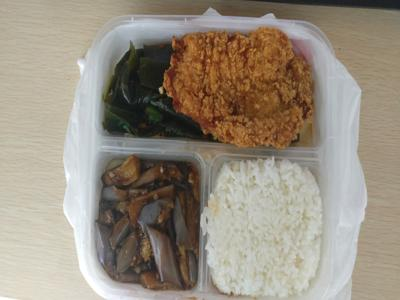rice: (215, 159, 321, 296)
sqz: (98, 152, 201, 296)
